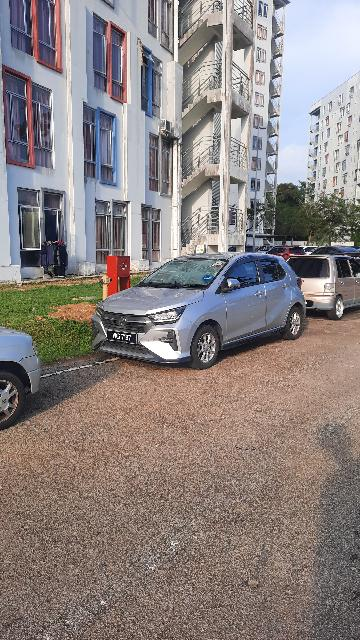License_Plate: (106, 330, 144, 348)
car: (89, 250, 309, 371), (286, 250, 360, 315)
